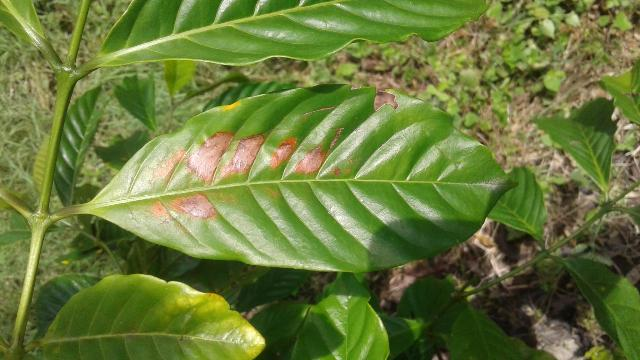red_spider_mite: (86, 85, 518, 271)
